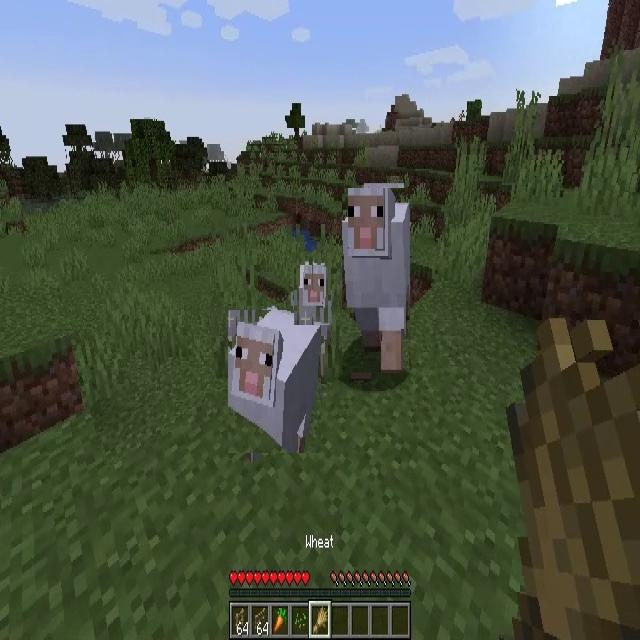sheep: (228, 310, 321, 453), (342, 188, 410, 373), (294, 265, 331, 325)
